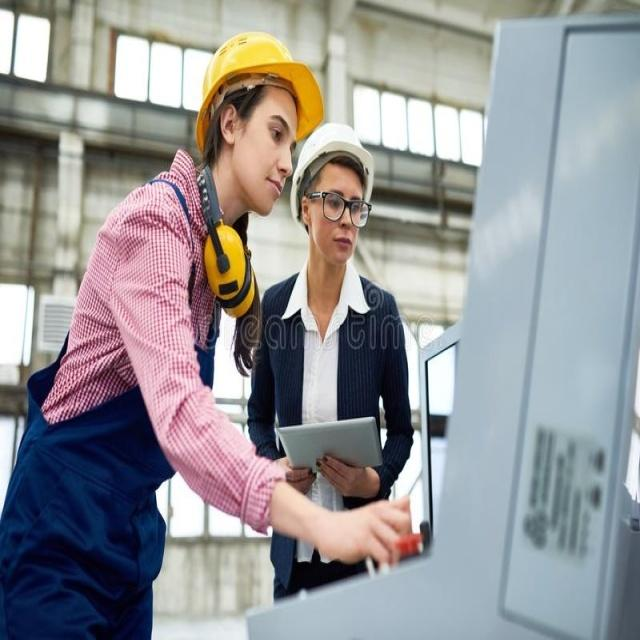helmet: (194, 37, 300, 288), (288, 158, 377, 362)
